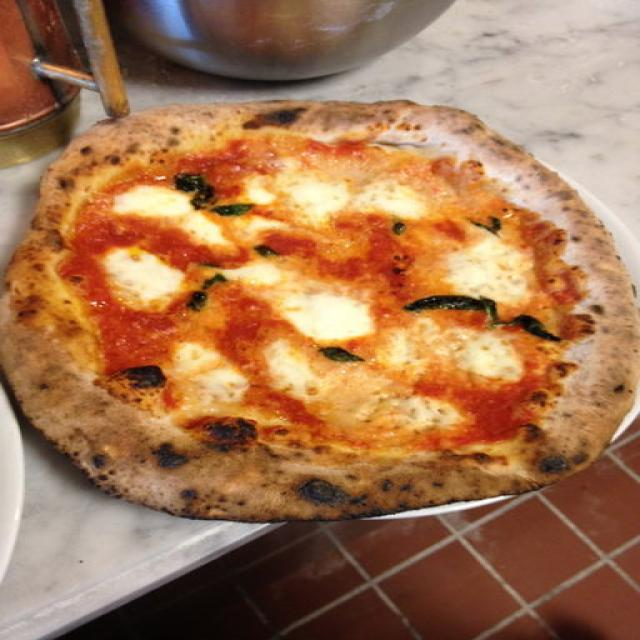Basil: (408, 293, 564, 340), (185, 175, 248, 215), (191, 271, 217, 309), (461, 217, 509, 236), (321, 343, 358, 362), (217, 203, 257, 220), (256, 245, 282, 262)
Cheese: (274, 347, 472, 432), (236, 264, 376, 335), (448, 235, 528, 297), (423, 326, 519, 376), (106, 248, 183, 304), (252, 172, 350, 215), (176, 350, 248, 400), (356, 178, 430, 219), (122, 188, 194, 218), (384, 222, 409, 240)
Pizza: (0, 99, 640, 538)
